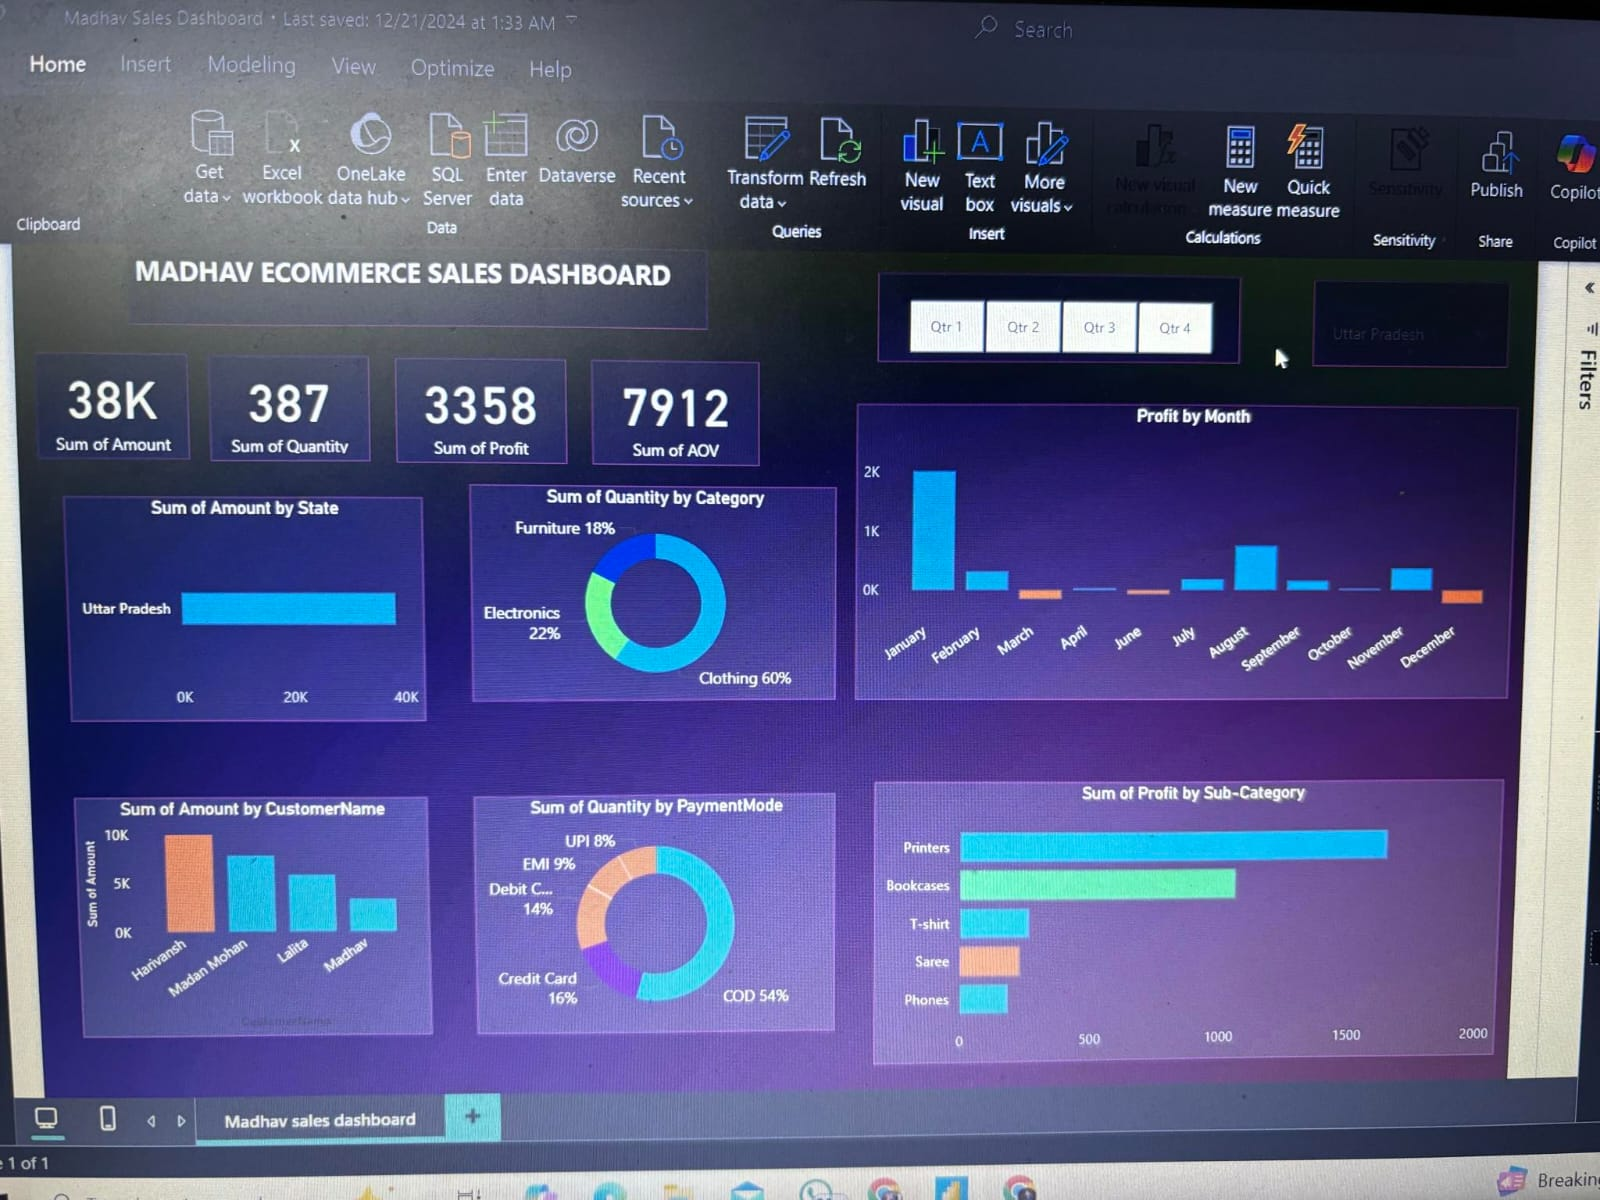

What the dashboard file says about the page in this screenshot:
{"tool":"powerbi","page":{"name":"Madhav sales dashboard","canvas":[1280,720],"ordinal":0},"visuals":[{"type":"textbox","box":[94.7,0,474.8,64.5],"z":0},{"type":"columnChart","title":"Profit by Month","fields":{"Y":["Sum(Details.Profit)"],"Category":["Orders.Order Date.Variation.Date Hierarchy.Month"]},"box":[694.3,124.9,572.2,252.5],"z":1000},{"type":"barChart","fields":{"Category":["Details.Sub-Category"],"Y":["Sum(Details.Profit)"]},"box":[711.8,449.1,554.4,248.2],"z":2000},{"type":"donutChart","fields":{"Category":["Details.Category"],"Y":["Sum(Details.Quantity)"]},"box":[370.5,194.9,307.4,182.5],"z":3000},{"type":"donutChart","fields":{"Y":["Sum(Details.Quantity)"],"Category":["Details.PaymentMode"]},"box":[370.4,458.8,307.5,207],"z":4000},{"type":"card","fields":{"Values":["Sum(Details.Amount)"]},"box":[16.5,87.8,123.5,86.4],"z":5000},{"type":"card","fields":{"Values":["Sum(Details.Quantity)"]},"box":[157.8,89.2,131.7,86.4],"z":6000},{"type":"card","fields":{"Values":["Sum(Details.Profit)"]},"box":[311.5,90.6,140,86.4],"z":7000},{"type":"card","fields":{"Values":["Sum(Details.AOV)"]},"box":[472,90.6,140,86.4],"z":8000},{"type":"barChart","fields":{"Category":["Orders.State"],"Y":["Sum(Details.Amount)"]},"box":[36.3,205.8,295.4,187.6],"z":9000},{"type":"columnChart","fields":{"Category":["Orders.CustomerName"],"Y":["Sum(Details.Amount)"]},"box":[36.3,458.8,295.4,207],"z":10000},{"type":"slicer","fields":{"Values":["Orders.Order Date.Variation.Date Hierarchy.Quarter"]},"box":[712.2,16.5,308.7,72.7],"z":11000},{"type":"slicer","fields":{"Values":["Orders.State"]},"box":[1084.1,17.8,171.5,72.7],"z":12000}]}

Visuals, with their boxes on the page's 1280x720 design canvas (x1, y1, x2, y2). These are canvas units, not pixel positions in the 1600x1200 screenshot, which may show the page scaled, cropped or inside an application window:
textbox: detection(95, 0, 570, 64)
"Profit by Month" columnChart: detection(694, 125, 1266, 377)
barChart - Details.Sub-Category x Sum(Details.Profit): detection(712, 449, 1266, 697)
donutChart - Details.Category x Sum(Details.Quantity): detection(370, 195, 678, 377)
donutChart - Sum(Details.Quantity) x Details.PaymentMode: detection(370, 459, 678, 666)
card - Sum(Details.Amount): detection(16, 88, 140, 174)
card - Sum(Details.Quantity): detection(158, 89, 290, 176)
card - Sum(Details.Profit): detection(312, 91, 452, 177)
card - Sum(Details.AOV): detection(472, 91, 612, 177)
barChart - Orders.State x Sum(Details.Amount): detection(36, 206, 332, 393)
columnChart - Orders.CustomerName x Sum(Details.Amount): detection(36, 459, 332, 666)
slicer - Orders.Order Date.Variation.Date Hierarchy.Quarter: detection(712, 16, 1021, 89)
slicer - Orders.State: detection(1084, 18, 1256, 90)
